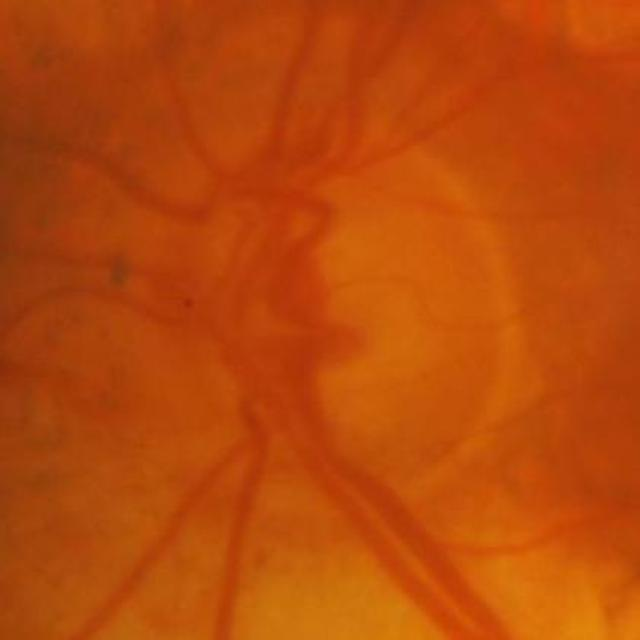OC: (241, 227, 425, 408)
OD: (79, 115, 512, 517)
